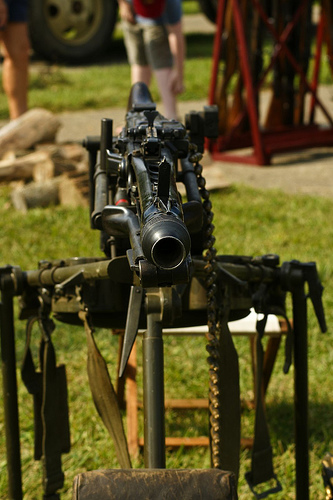rifle: (77, 67, 269, 457)
